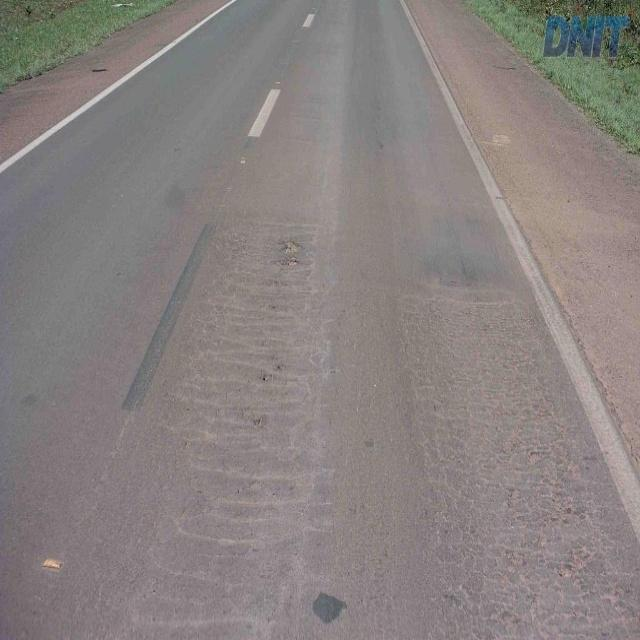pothole: (274, 235, 306, 272)
